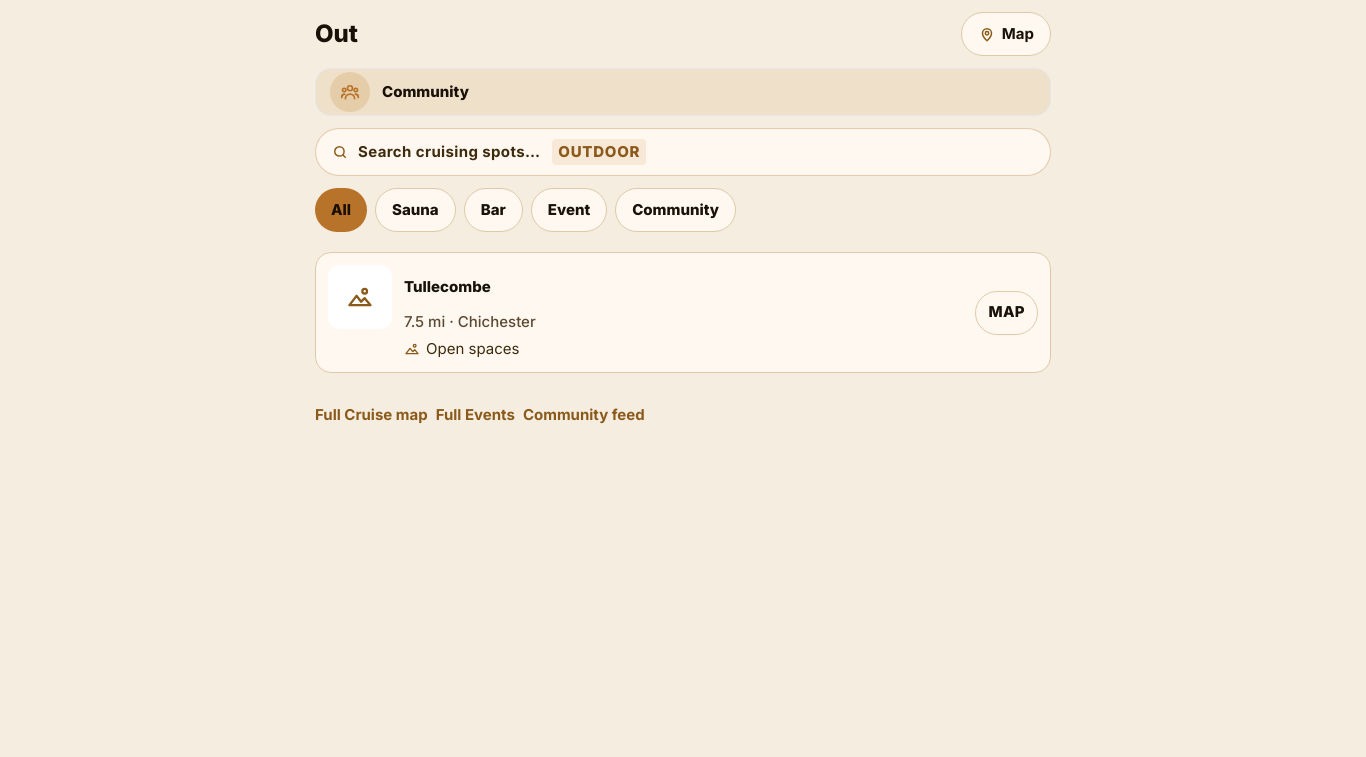
Test: Out list refreshes after a check-in from the spot sheet › a failed refresh keeps the server spot from the check-in reply
The width and height of the screenshot is (1366, 757).
Click the button "Tullecombe" at (447, 286), box x1=404 y1=265 x2=963 y2=309
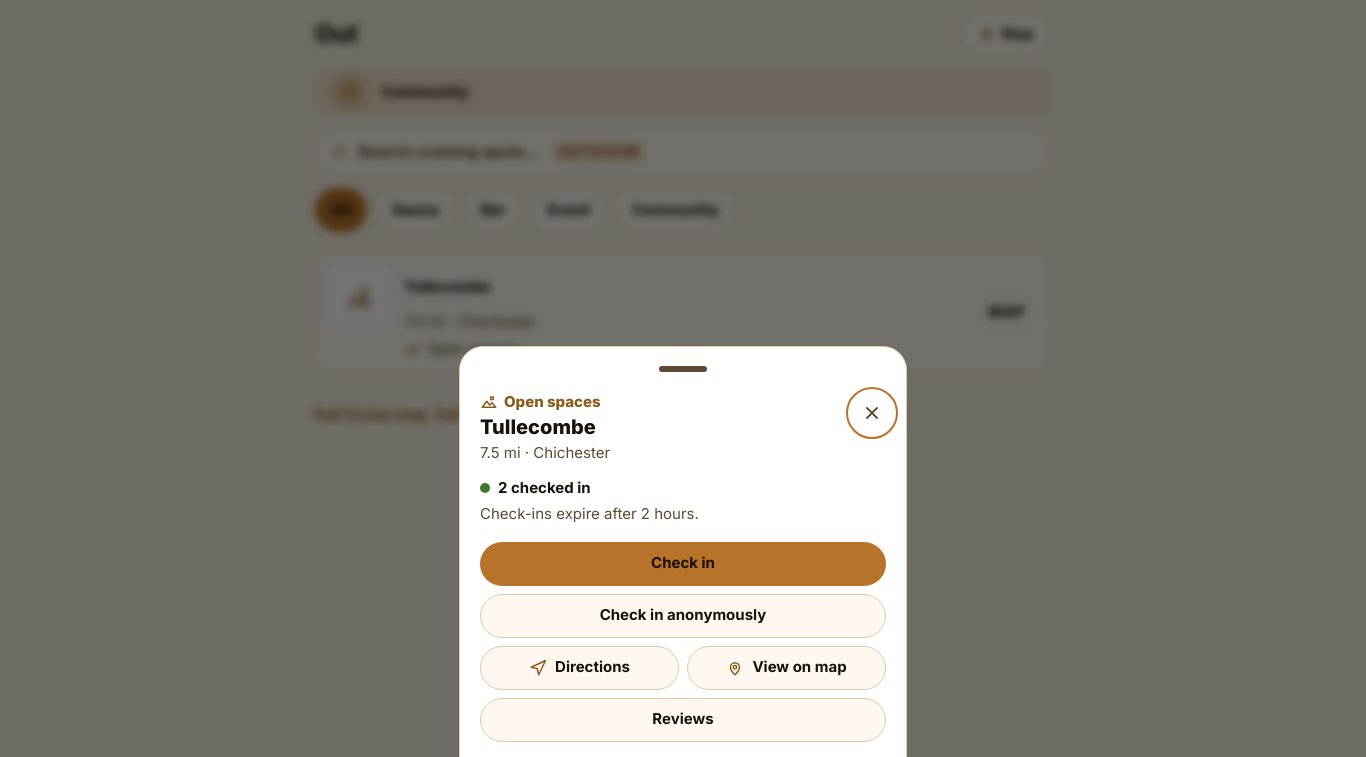
Click the button with test id "hotspot-sheet-checkin" at (683, 564), box x1=480 y1=542 x2=886 y2=586
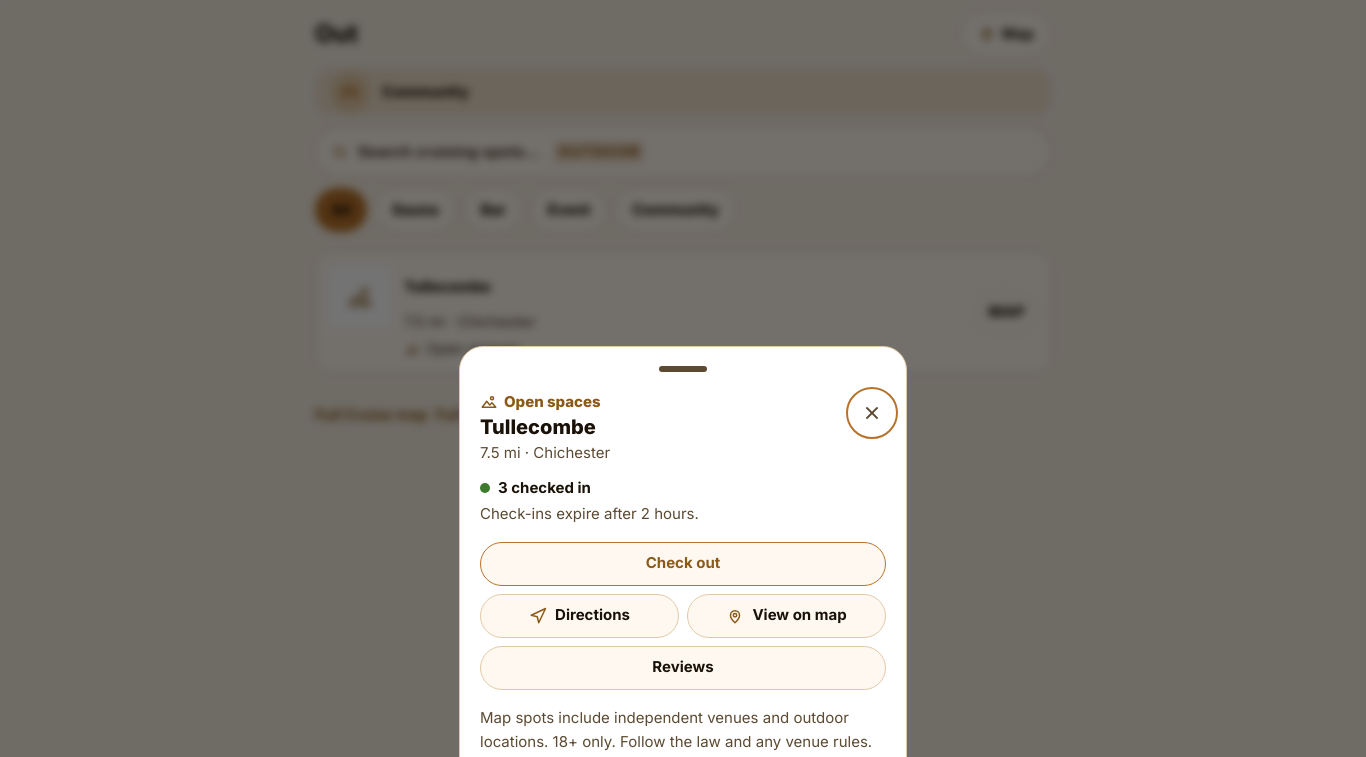
Now the element with test id "hotspot-sheet-activity" reads "3 checked in", box x1=498 y1=478 x2=591 y2=497
